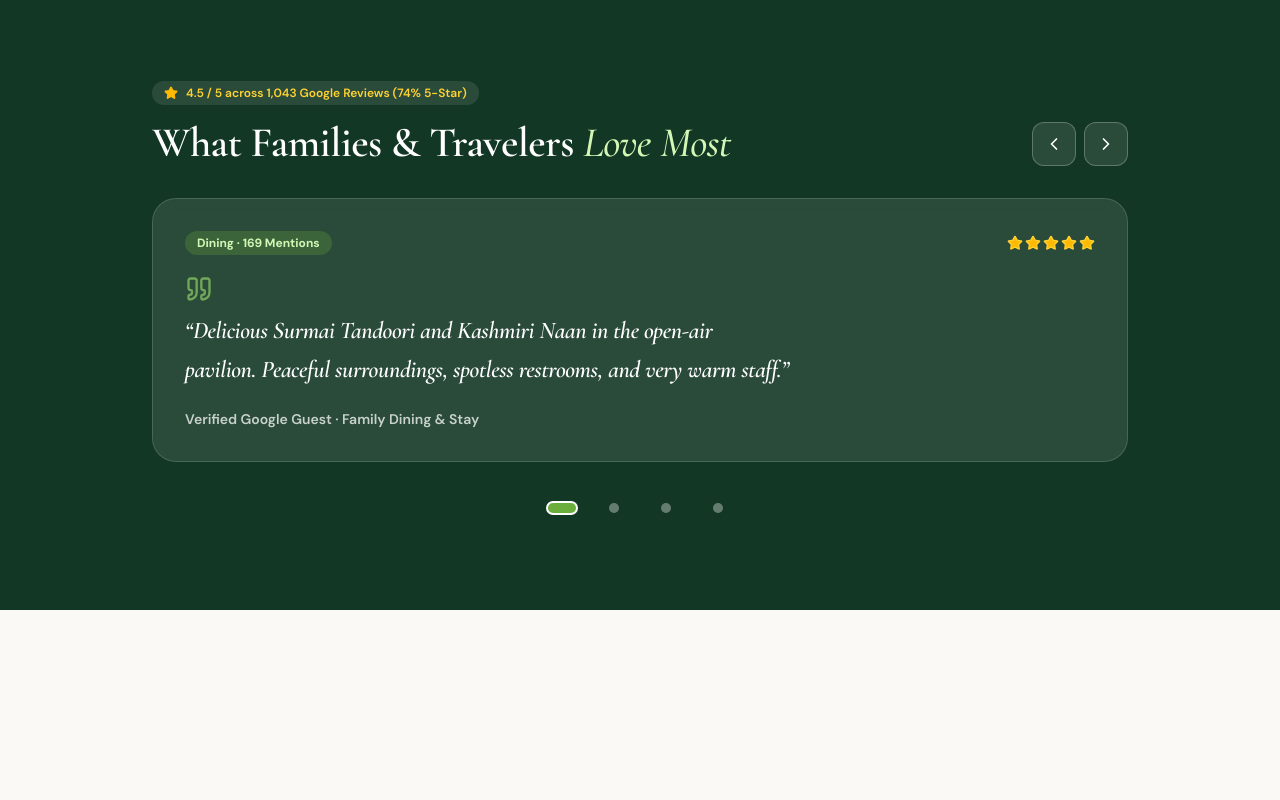
GuestVoicesCarousel › renders accessible carousel semantics, controls, and live slide announcements
The width and height of the screenshot is (1280, 800).
What coordinates should you click on to do the following:
click the button named "Next review"
I would click on:
 (1106, 144)
Its box is [1084,122,1128,166].
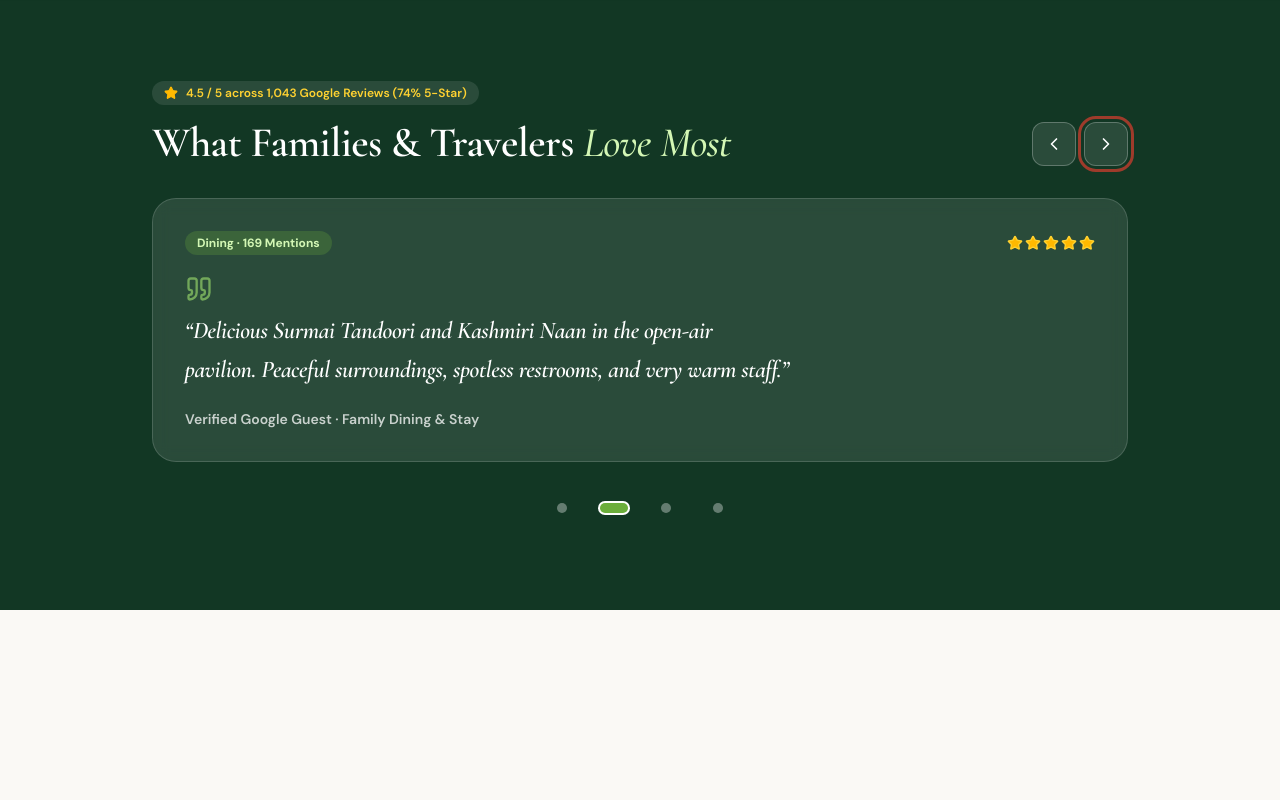
Now the button named "Go to review" is marked as current, box [592,486,636,530]
